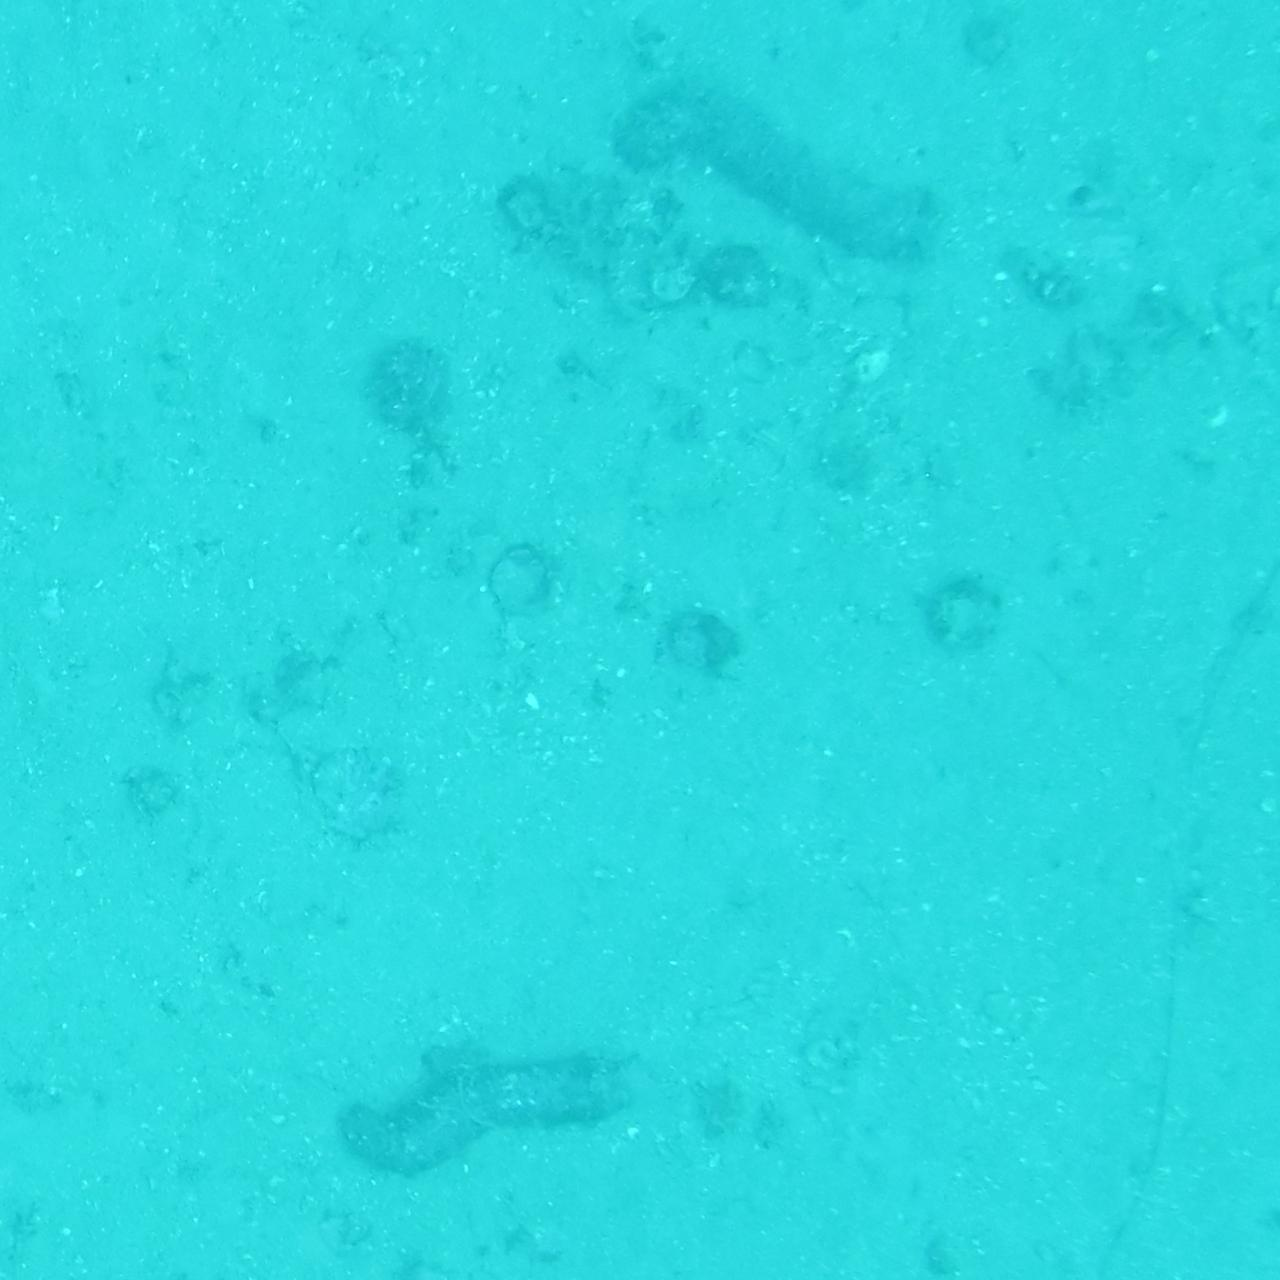Holothuria tubulosa: (626, 53, 966, 257), (319, 1068, 649, 1184)
